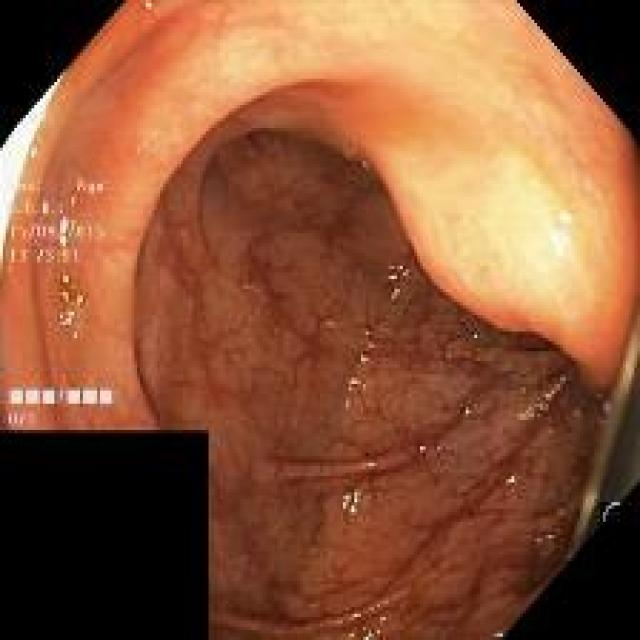Polyps: (375, 106, 610, 361)
